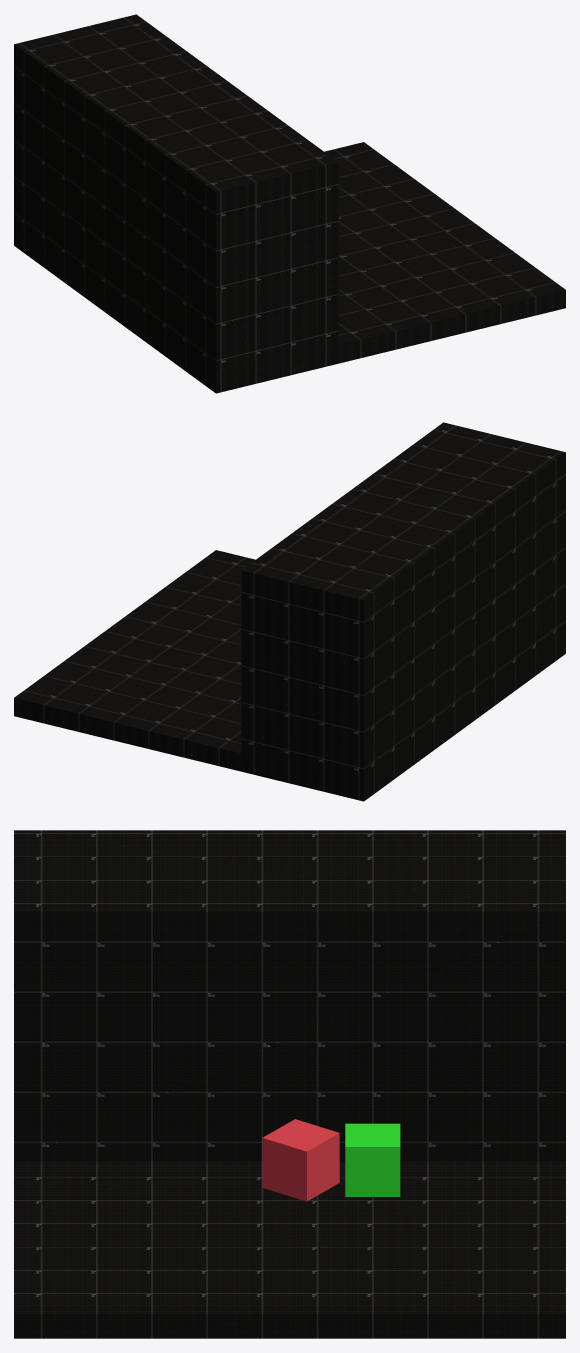
The picture shows the model from 3 angles, top to bottom: view 1: azimuth 30°, elevation 25°; view 2: azimuth 150°, elevation 25°; view 3: azimuth 270°, elevation 25°; orthographic projection. The views are drawn at different scales.
Parts seen in each view (by area): view 1: floor; view 2: floor; view 3: floor, cube_1, cube_2.
Boxes of the visible parts, left/top/right/bottom form: floor: left=14, top=14, right=565, bottom=393; floor: left=14, top=422, right=565, bottom=801; floor: left=14, top=830, right=565, bottom=1338; cube_1: left=262, top=1119, right=339, bottom=1201; cube_2: left=345, top=1123, right=400, bottom=1196.
Bounding box in the file's own units: 2 × 1.1 × 2.
Materials: 3 (1 with a texture image).
